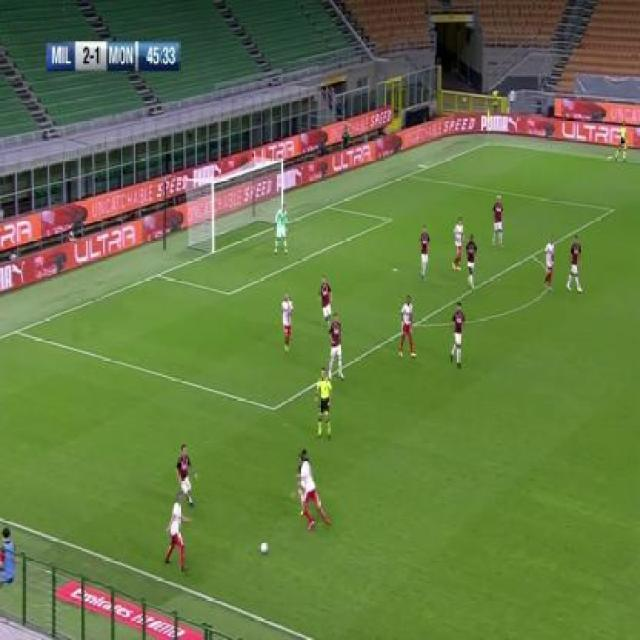ball: (259, 541, 270, 555)
player: (293, 452, 333, 531), (165, 492, 190, 574), (175, 443, 203, 508), (315, 368, 335, 441), (398, 294, 417, 362), (446, 304, 466, 367), (565, 234, 584, 296), (330, 312, 346, 383), (280, 290, 296, 355), (317, 274, 333, 333), (274, 204, 291, 257), (491, 194, 505, 251), (451, 216, 465, 273), (542, 234, 555, 291), (418, 224, 431, 281), (465, 234, 478, 287), (616, 119, 630, 165)
